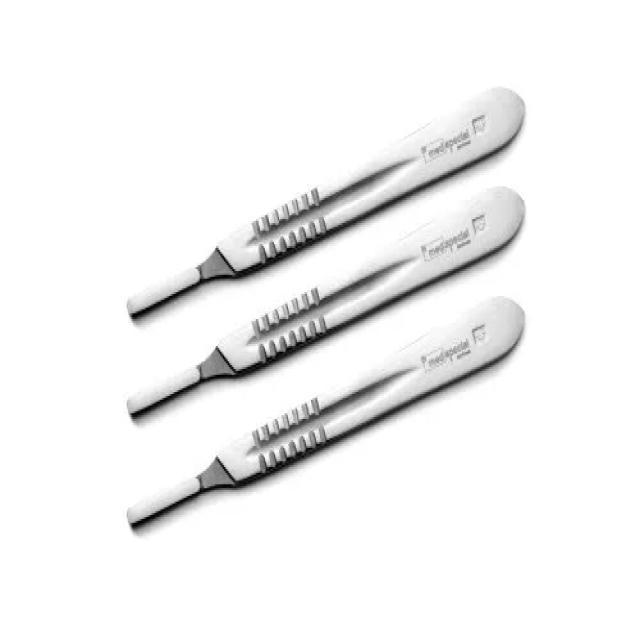Knife handle: (128, 298, 526, 538), (119, 75, 528, 305)
